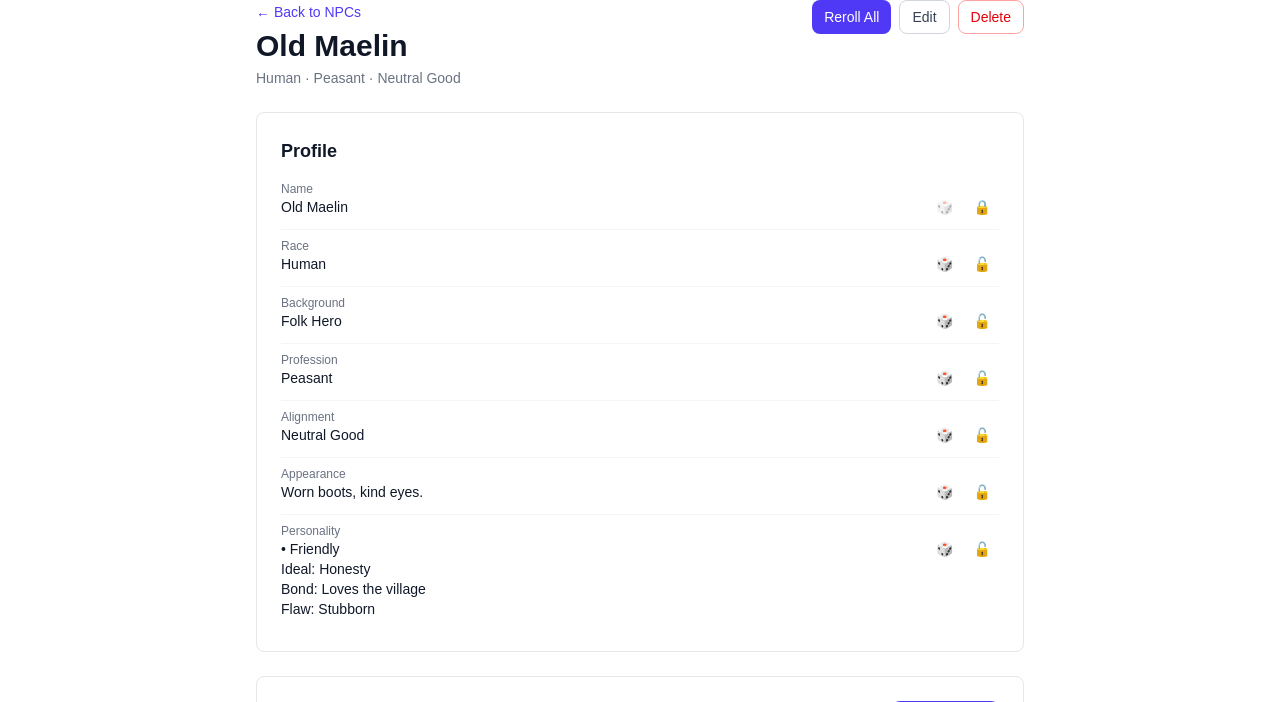
Test: NpcDetailPage › reroll-all opens a confirm dialog when fields are locked and cancels safely
Check: the heading "Old Maelin" is shown, box [256,29,408,62]
Click the button "Reroll All" at (852, 17), box [812,0,892,34]
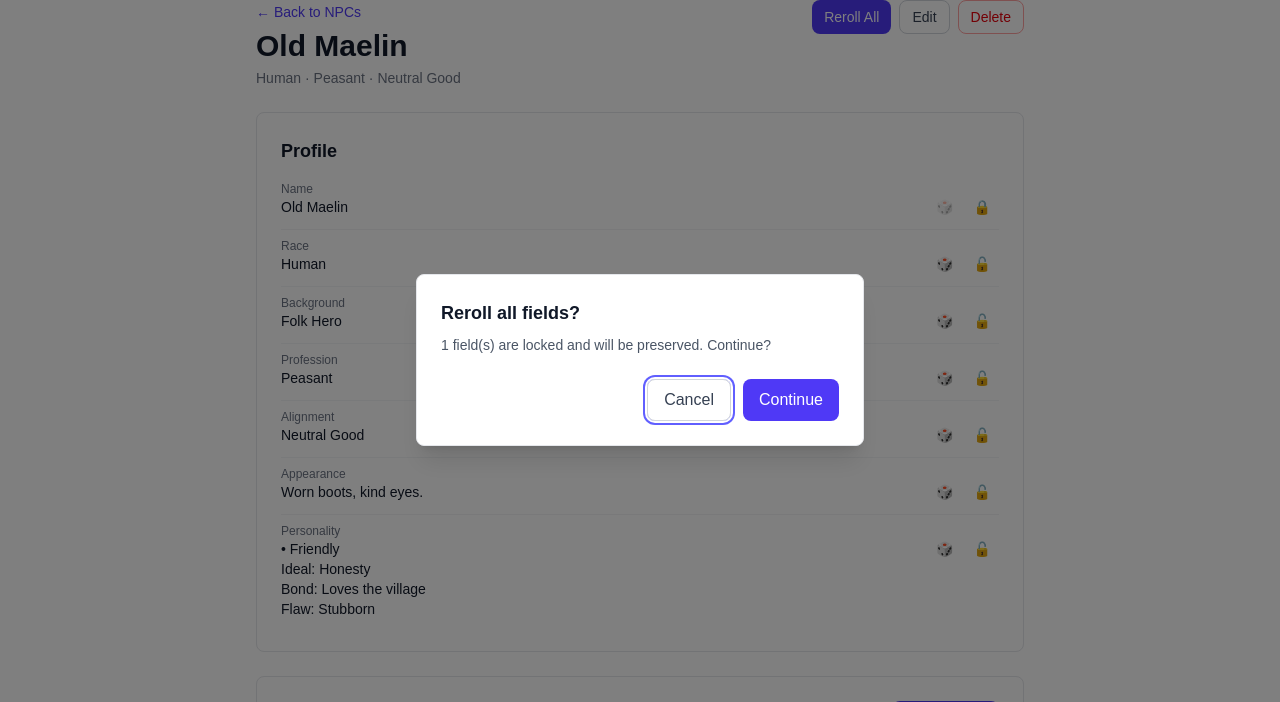
Check: the text "1 field(s) are locked and will be preserved. Continue?" is shown, box [441,337,771,353]
Click the button "Cancel" at (689, 400), box [647,379,731,421]
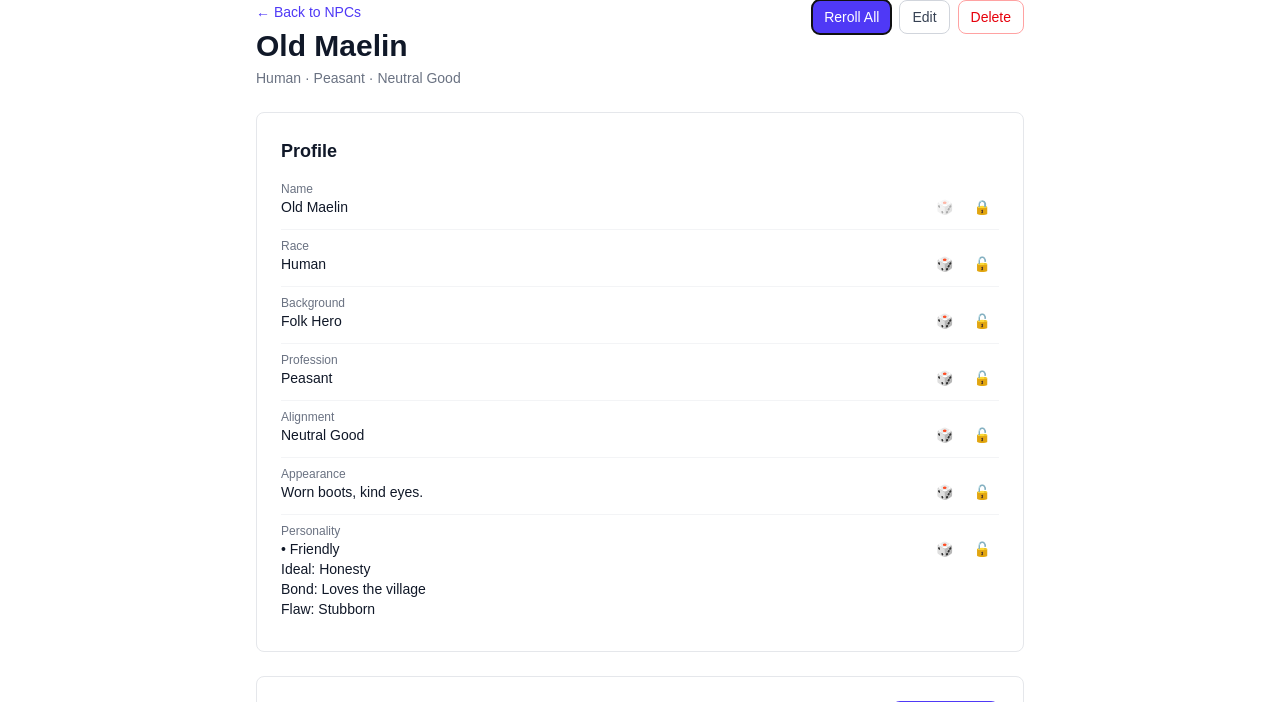
Check: the dialog is gone
